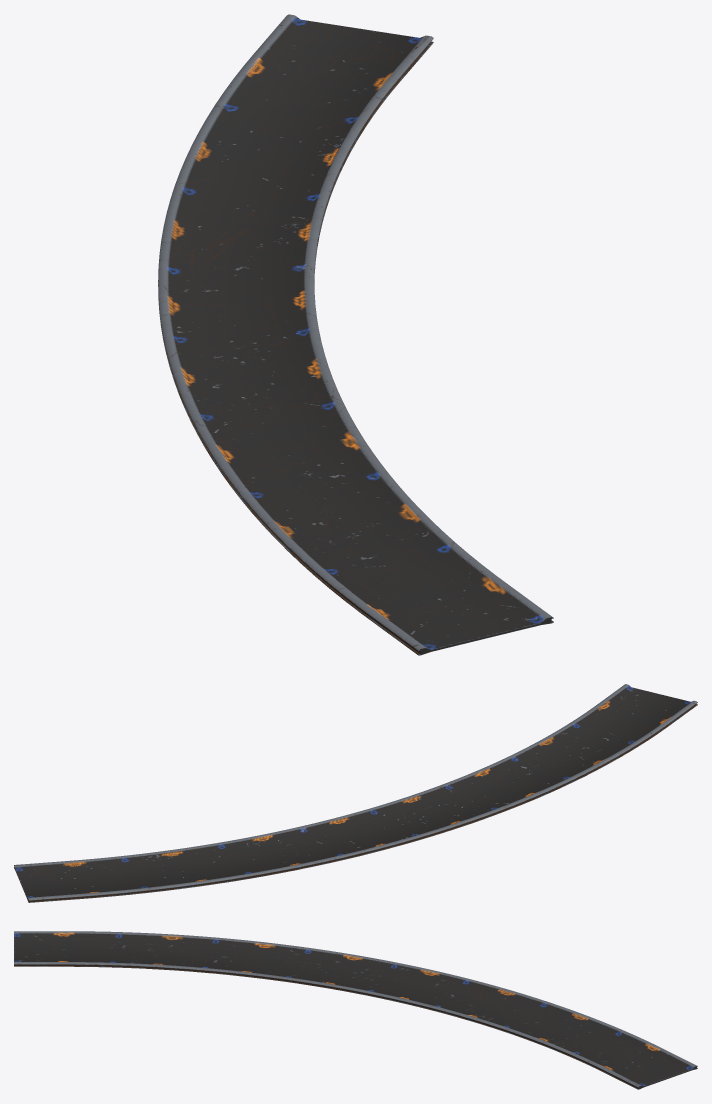
File: SM_Road_3.fbx
3 views of the same model, one above another, from view 1: azimuth 30°, elevation 25°; view 2: azimuth 150°, elevation 25°; view 3: azimuth 270°, elevation 25° (orthographic). The views are drawn at different scales.
Visible parts, largest first — view 1: SM_Road_3; view 2: SM_Road_3; view 3: SM_Road_3.
Boxes of the visible parts, x1,y1,x2,y2 form: SM_Road_3: (158, 14, 553, 655); SM_Road_3: (14, 684, 697, 902); SM_Road_3: (14, 931, 697, 1089).
Bounding box in the file's own units: 3217 × 31.13 × 5960.
